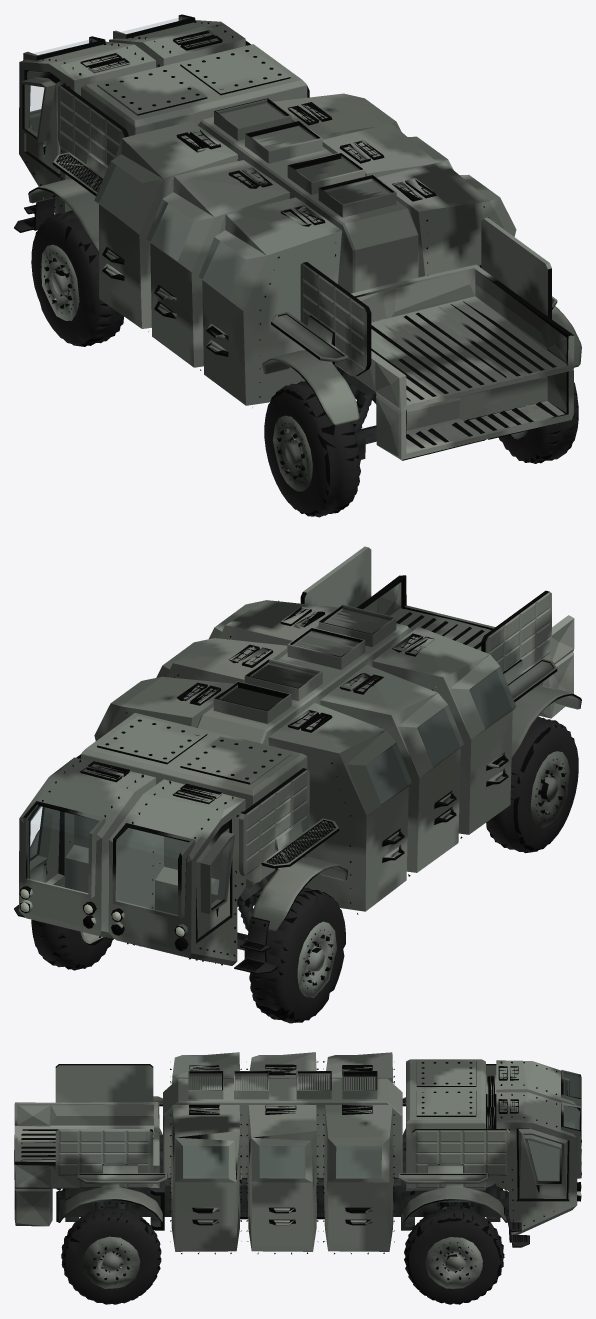
Rendered from transport.glb.
3 views of the same model, one above another, from view 1: azimuth 30°, elevation 25°; view 2: azimuth 150°, elevation 25°; view 3: azimuth 270°, elevation 25° (orthographic). The views are drawn at different scales.
Visible parts, largest first — view 1: Hull, PodWindows; view 2: Hull; view 3: Hull.
Part boxes in pixels (<box>): Hull: <box>14,14,581,517</box>; PodWindows: <box>30,17,180,112</box>; Hull: <box>14,546,581,1023</box>; Hull: <box>14,1052,581,1304</box>.
Size of the model in its own units: 3.51 by 2.83 by 8.
Materials: 2 (1 with a texture image).
